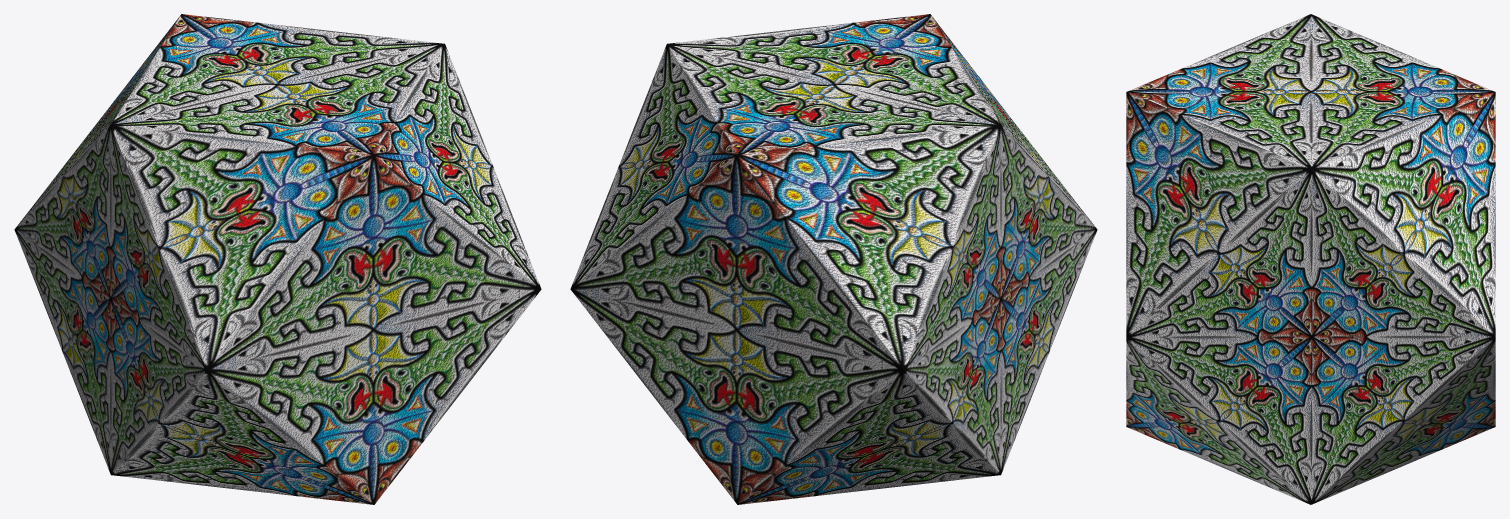
The model's file is Cuboctahedron1.obj.
3 views of the same model, side by side, from view 1: azimuth 30°, elevation 25°; view 2: azimuth 150°, elevation 25°; view 3: azimuth 270°, elevation 25° (orthographic). The views are drawn at different scales.
Size of the model in its own units: 1.41 by 1.41 by 1.41.
1 material, 1 textured.
